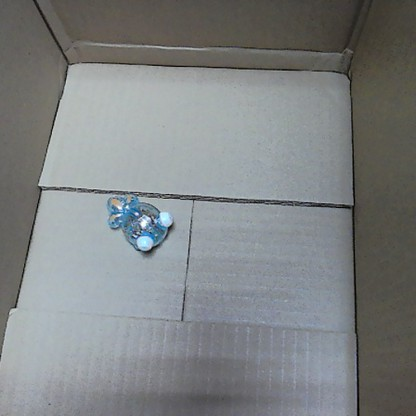bluefish: (102, 189, 175, 257)
